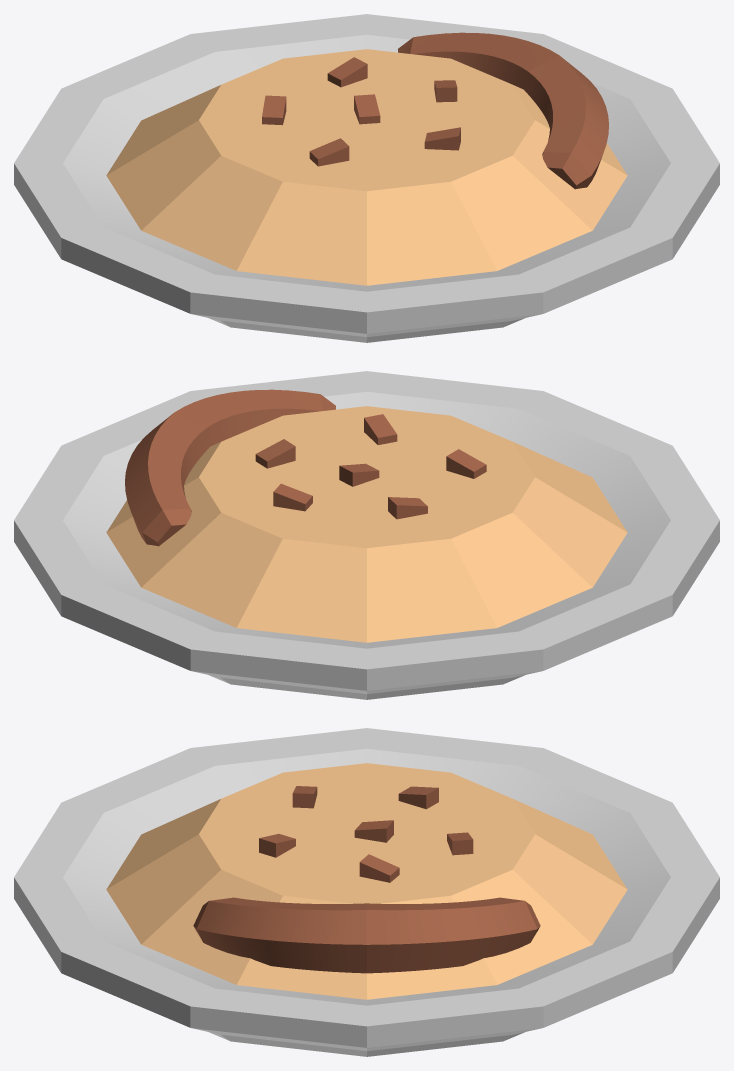
Rendered from plateSauerkraut.fbx.
The picture shows the model from 3 angles, top to bottom: view 1: azimuth 30°, elevation 25°; view 2: azimuth 150°, elevation 25°; view 3: azimuth 270°, elevation 25°; orthographic projection.
Visible parts, largest first — view 1: plateSauerkraut, sausage; view 2: plateSauerkraut, sausage; view 3: plateSauerkraut, sausage.
Boxes of the visible parts, x1=… form: plateSauerkraut: x1=14, y1=14, x2=719, y2=342; sausage: x1=398, y1=32, x2=608, y2=189; plateSauerkraut: x1=14, y1=371, x2=719, y2=699; sausage: x1=125, y1=389, x2=335, y2=546; plateSauerkraut: x1=14, y1=728, x2=719, y2=1056; sausage: x1=193, y1=897, x2=540, y2=973.
Size of the model in its own units: 8.92 by 1.75 by 8.92.
